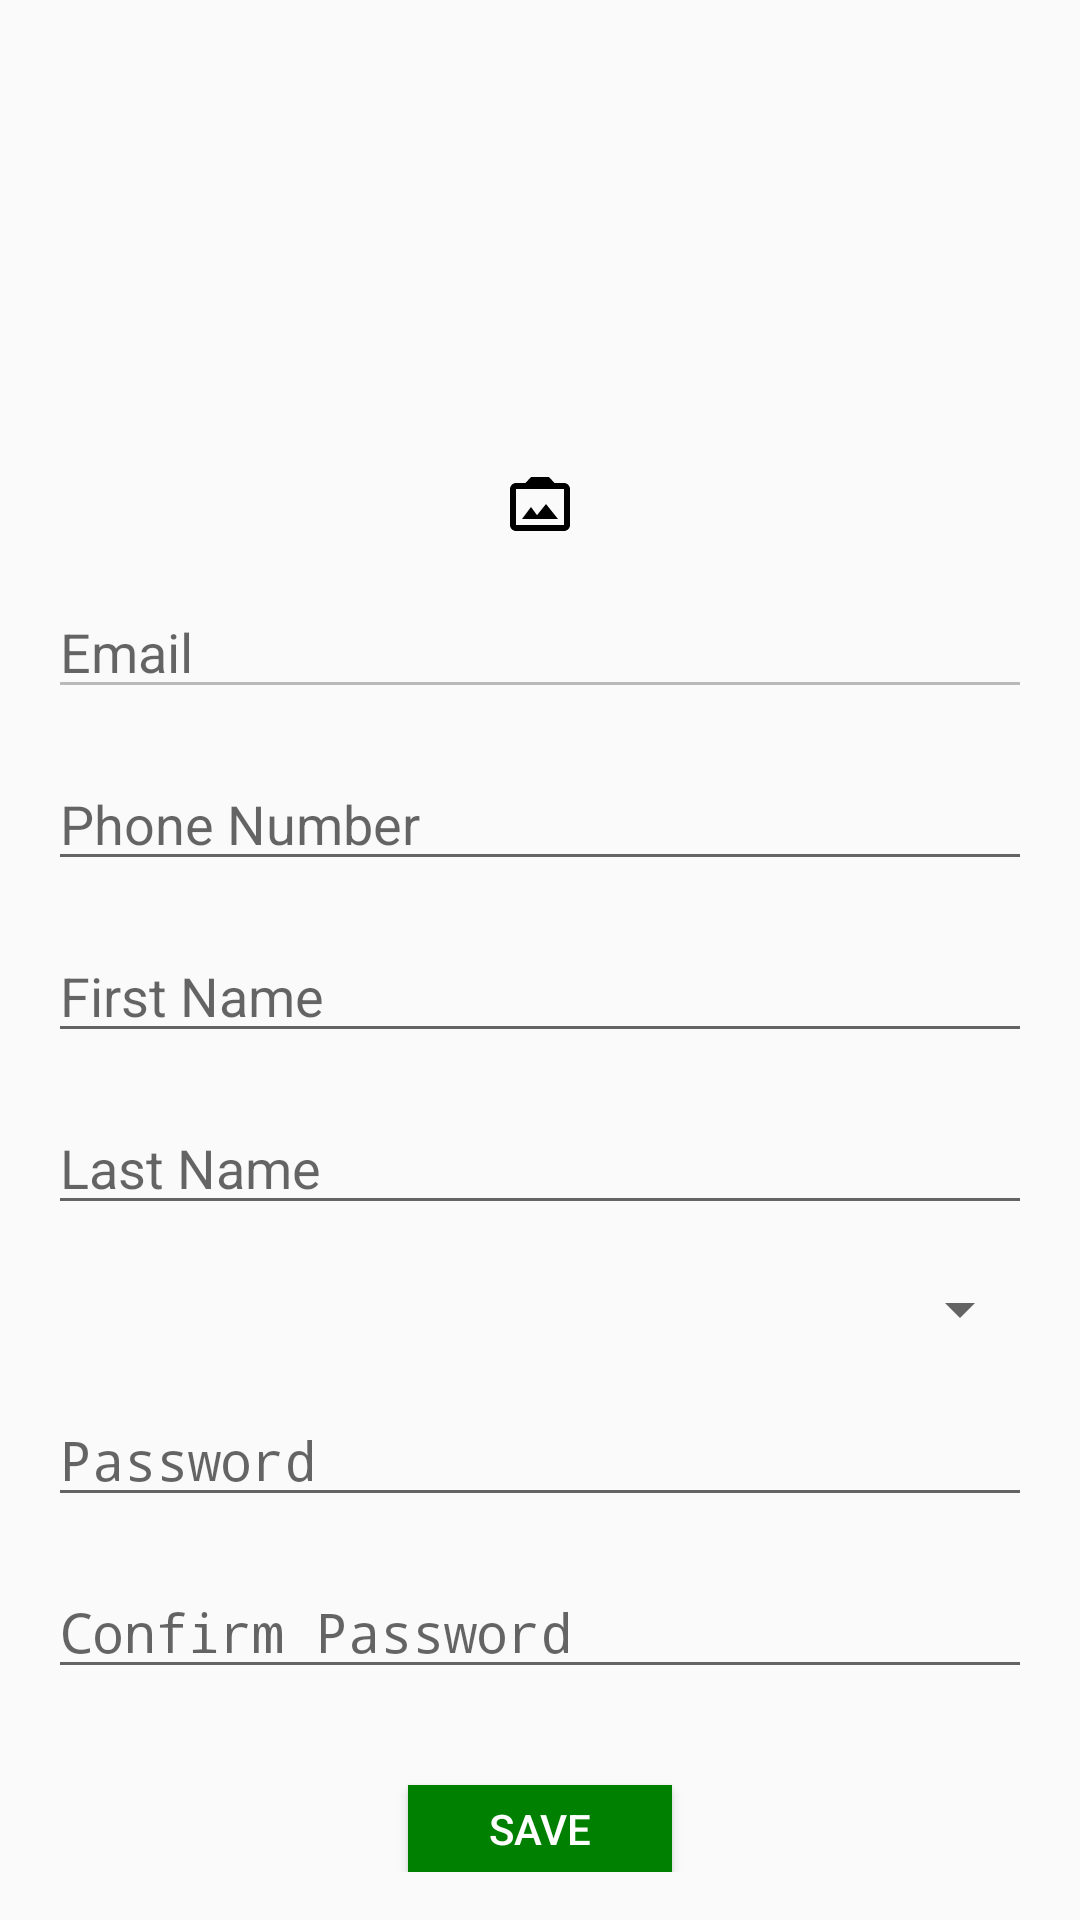

Screen size 1080 × 1920. Icon name, then its center in pixels as [x,y]:
photo camera back: [540,504]
